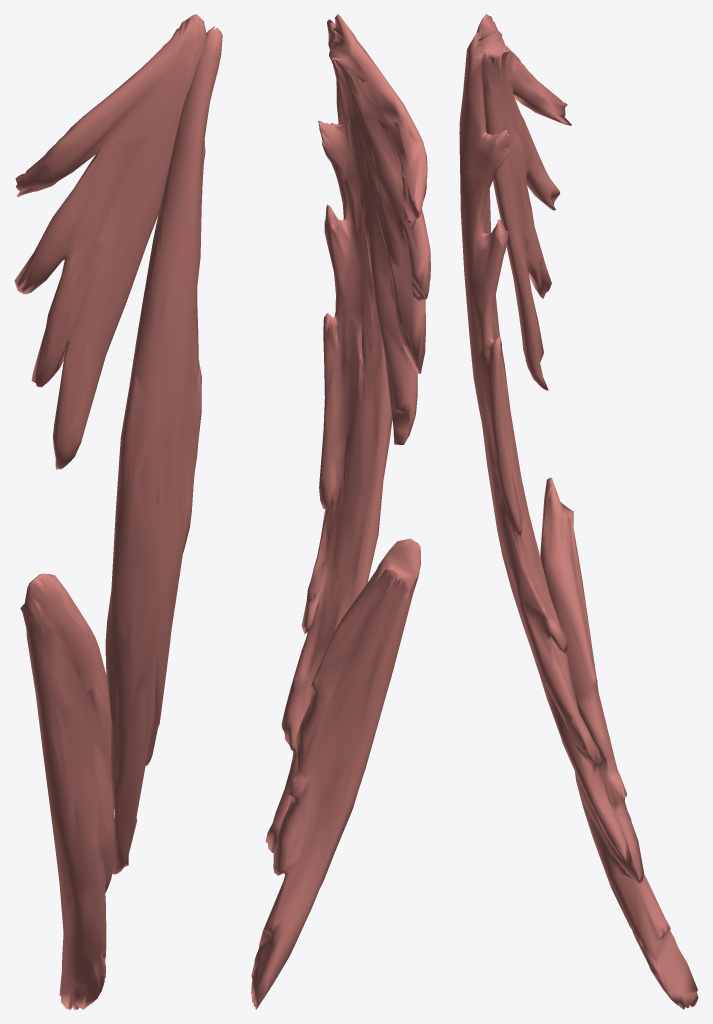
The picture shows the model from 3 angles, left to right: view 1: azimuth 30°, elevation 25°; view 2: azimuth 150°, elevation 25°; view 3: azimuth 270°, elevation 25°; orthographic projection. The views are drawn at different scales.
Parts seen in each view (by area): view 1: ZA_4639b12ce8f6639a; view 2: ZA_4639b12ce8f6639a; view 3: ZA_4639b12ce8f6639a.
Boxes of the visible parts, box(x1,y1,x2,y2) form: ZA_4639b12ce8f6639a: box(14, 14, 222, 1009); ZA_4639b12ce8f6639a: box(251, 14, 430, 1009); ZA_4639b12ce8f6639a: box(459, 14, 698, 1009).
Size of the model in its own units: 0.0248 by 0.1574 by 0.0341.
